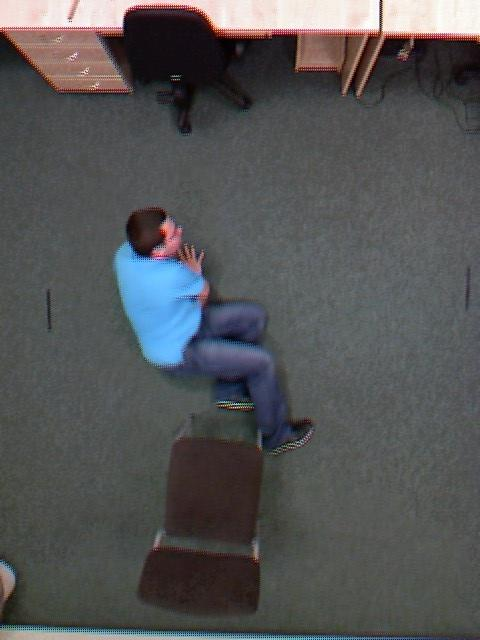fall: (111, 183, 311, 473)
